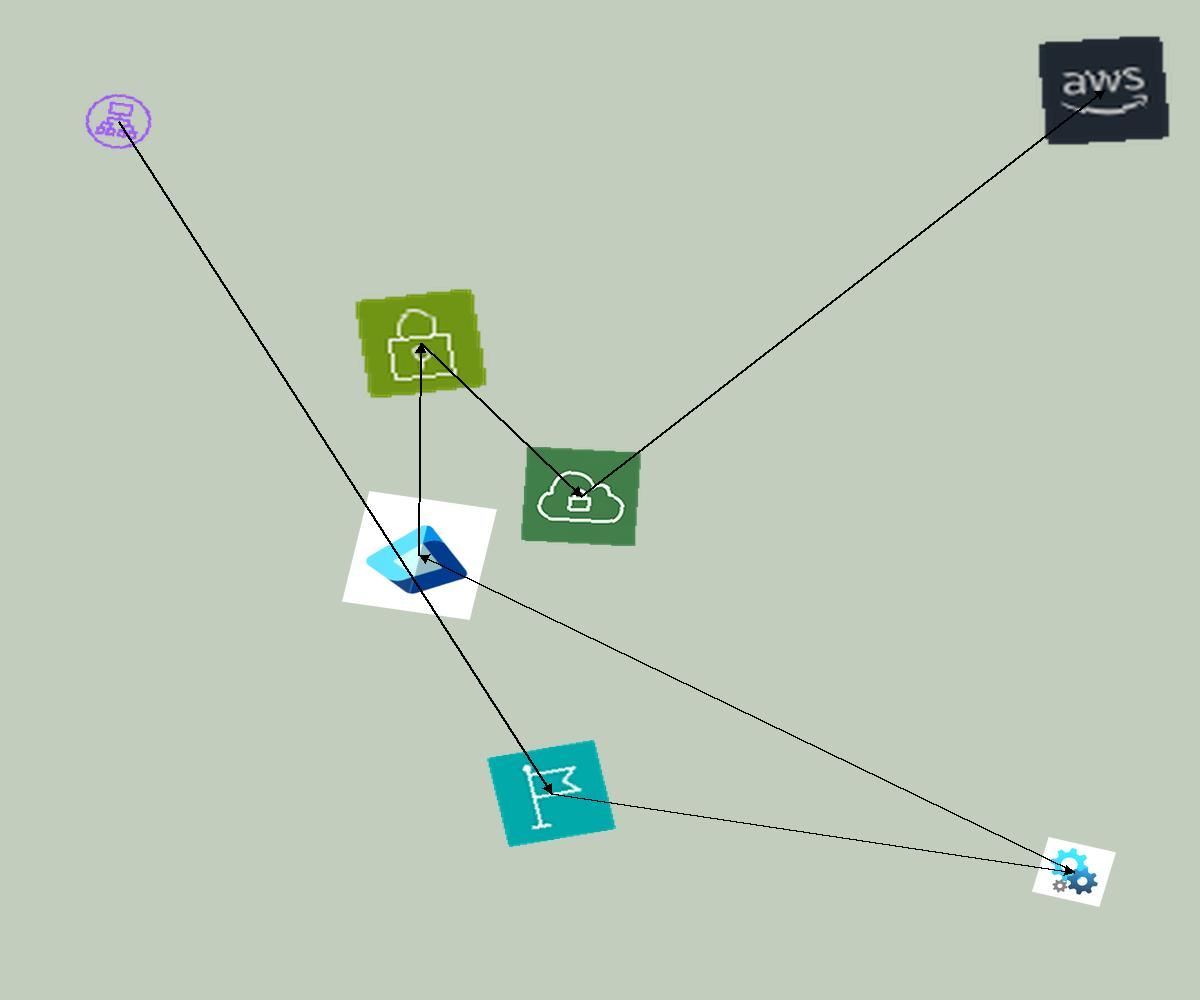AWS-Cloud-logo: (1036, 34, 1172, 147)
AWS-Private_vpc: (520, 446, 642, 547)
AWS-Public-subnet: (353, 287, 489, 400)
AWS-Region: (486, 739, 617, 848)
AWS-Res_Elastic-Load-Balancing_Application-Load-Balancer: (77, 87, 160, 156)
Azure_api: (1032, 837, 1116, 907)
Azure_microsoft_entra: (342, 491, 497, 620)
